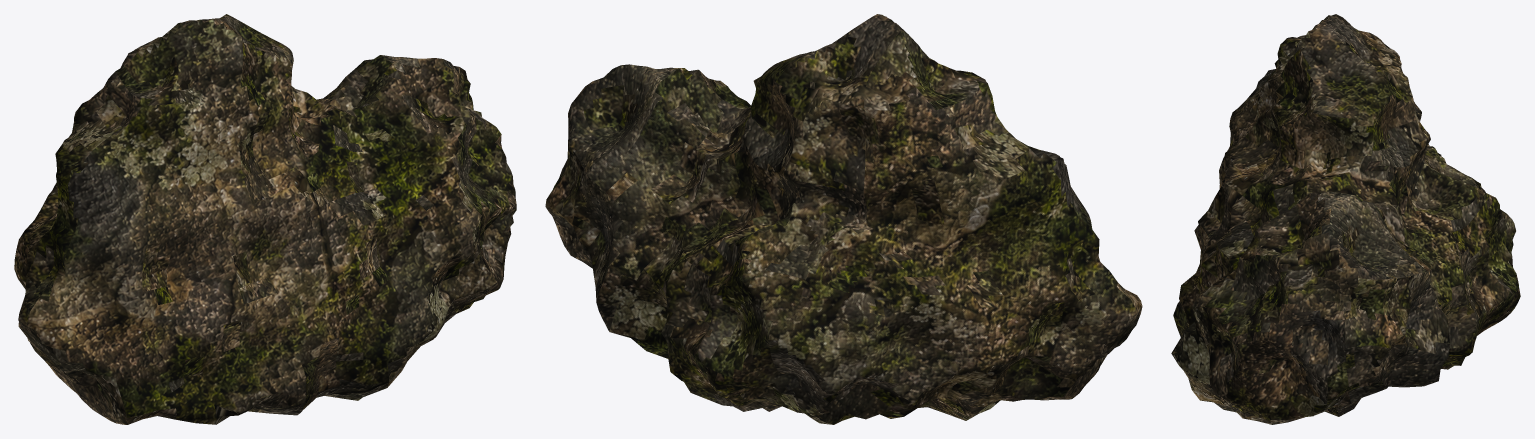
File: rock4.glb
3 views of the same model, side by side, from view 1: azimuth 30°, elevation 25°; view 2: azimuth 150°, elevation 25°; view 3: azimuth 270°, elevation 25° (orthographic). The views are drawn at different scales.
Parts seen in each view (by area): view 1: Cube; view 2: Cube; view 3: Cube.
Part boxes in pixels (<box>): Cube: <box>14,14,516,424</box>; Cube: <box>545,14,1142,424</box>; Cube: <box>1171,14,1520,424</box>.
Size of the model in its own units: 10.81 by 7.74 by 7.05.
1 material, 1 textured.
